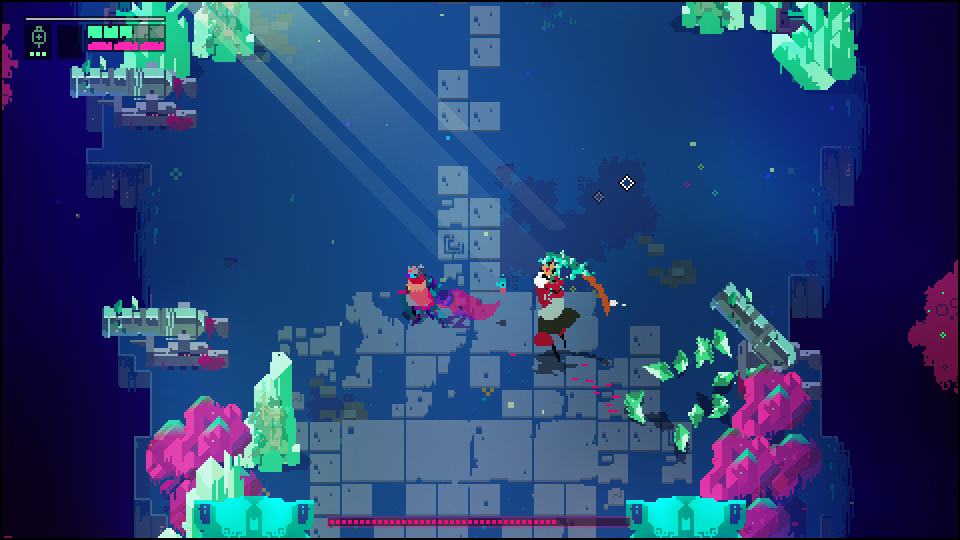hanged_man: (530, 250, 601, 364)
player: (405, 263, 430, 317)
